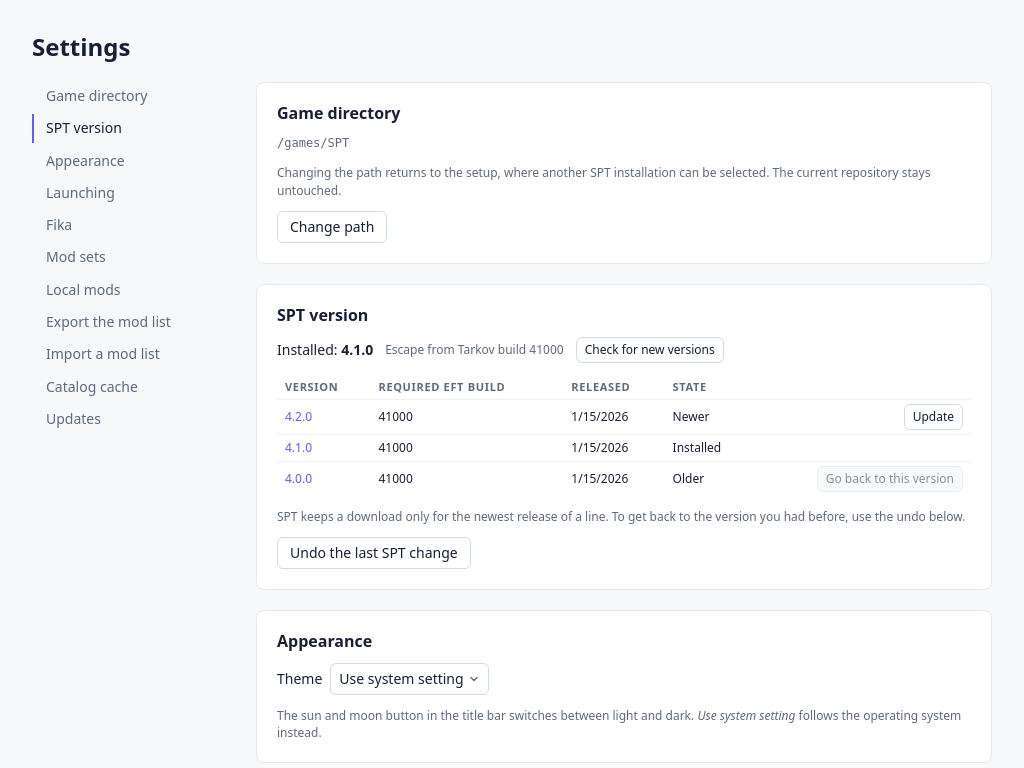
the SPT release list › applies nothing when the confirmation is dismissed
The width and height of the screenshot is (1024, 768).
Expected: the link "4.2.0" is shown, 285,408 -> 312,425
Click the button "Update".
click(933, 417)  # box 904,404 -> 963,430
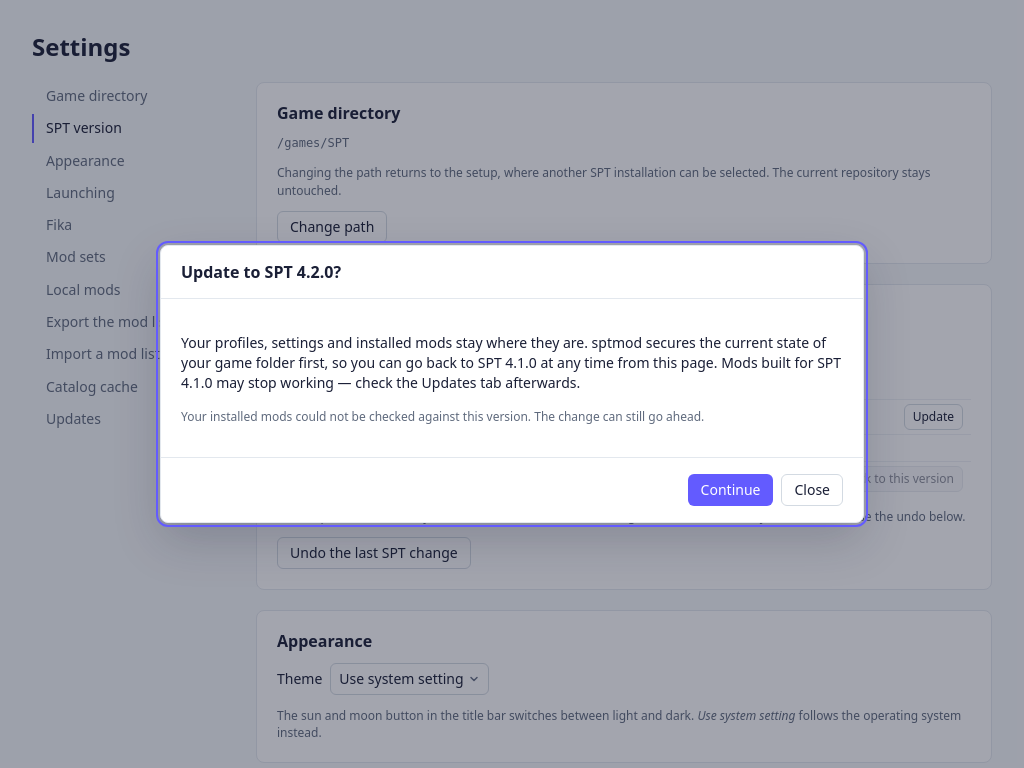
Click the button "Close".
click(812, 490)  # box 782,474 -> 843,506
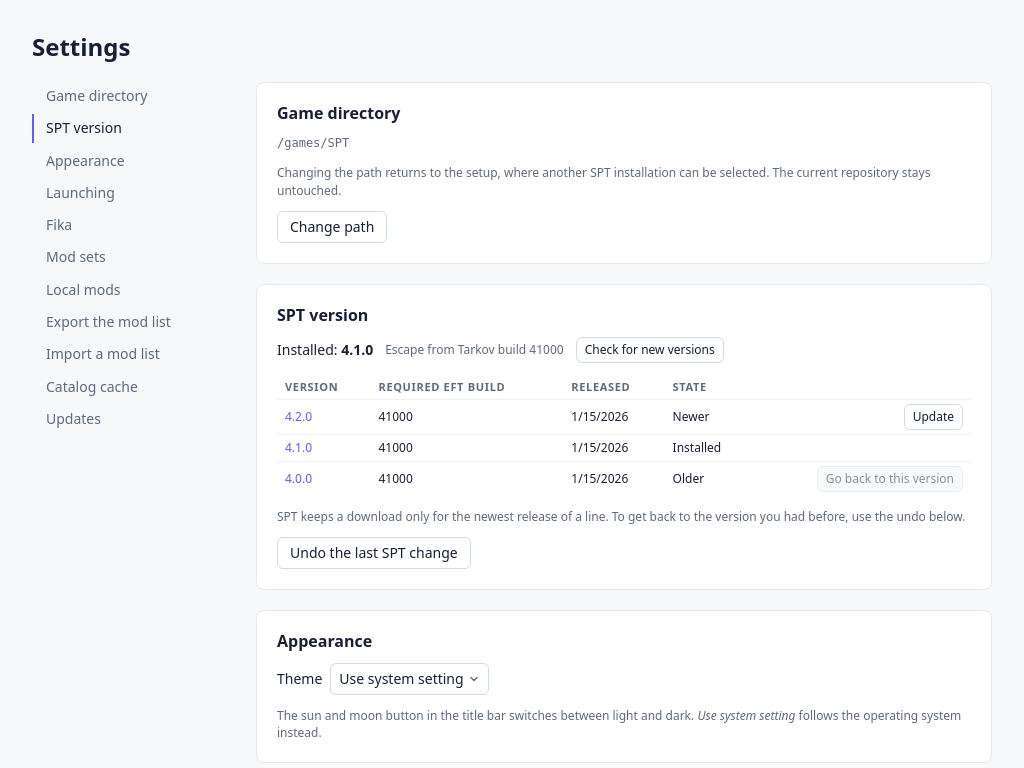
Expected: the dialog is gone
